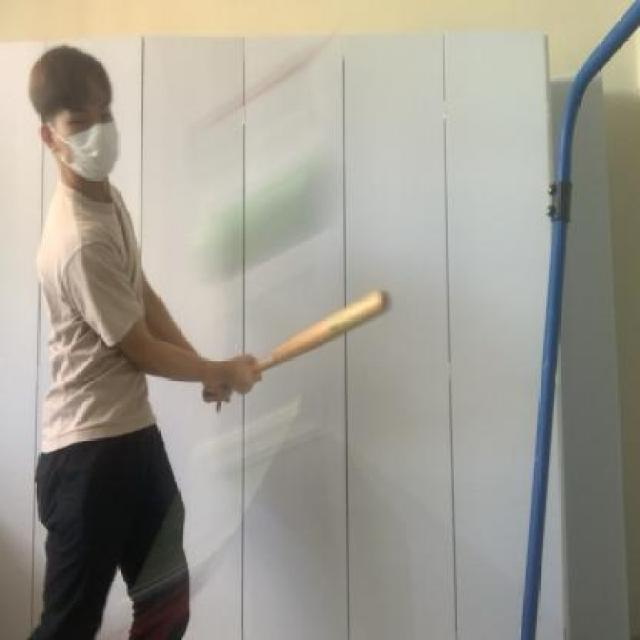baseball: (191, 162, 346, 286)
